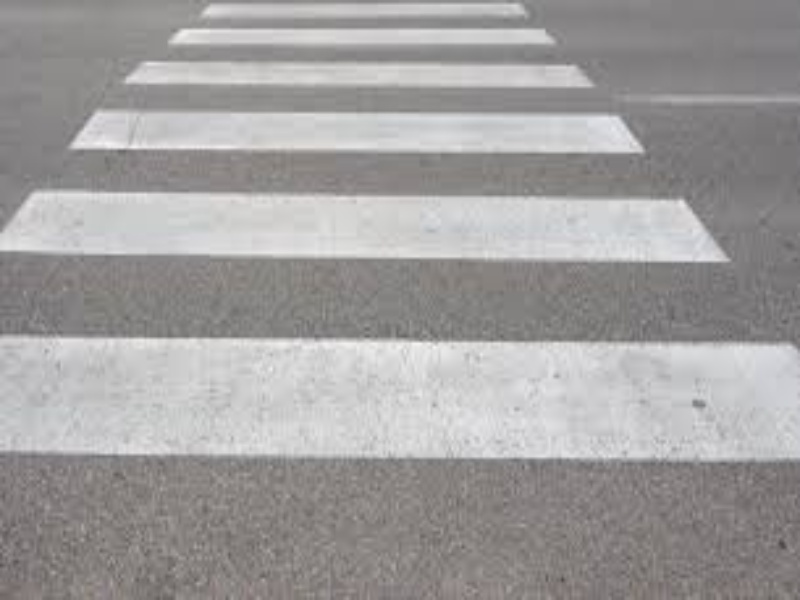zebra cross: (1, 1, 796, 467)
